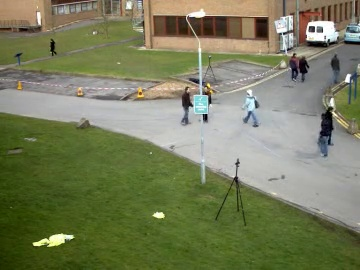person: (180, 84, 196, 124), (180, 85, 195, 125), (179, 85, 194, 124)
